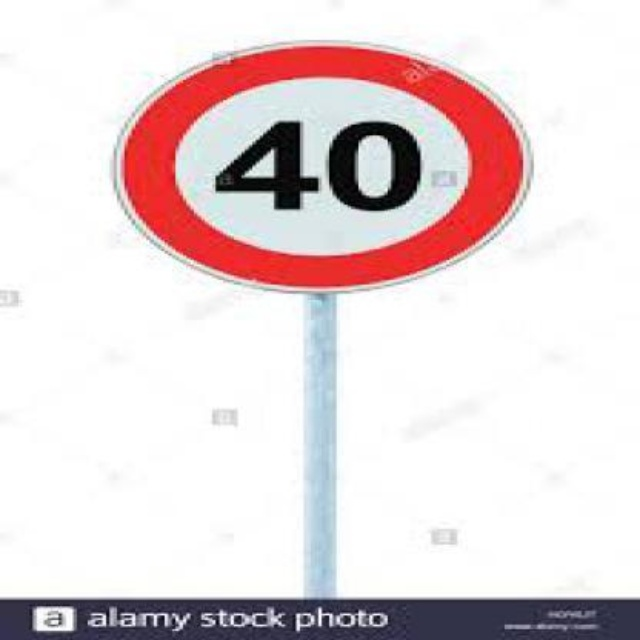Tốc độ tối đa cho phép 10km/h: (132, 44, 519, 285)
